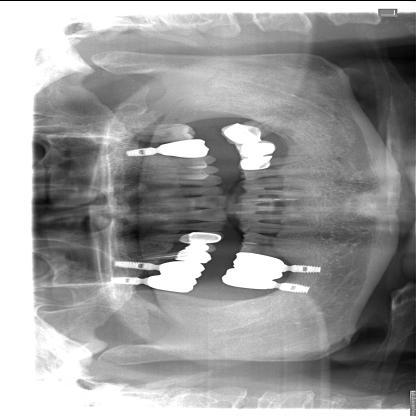Bicon: (109, 258, 159, 270), (118, 145, 160, 159), (286, 262, 326, 274), (272, 281, 313, 292), (107, 274, 144, 286)
